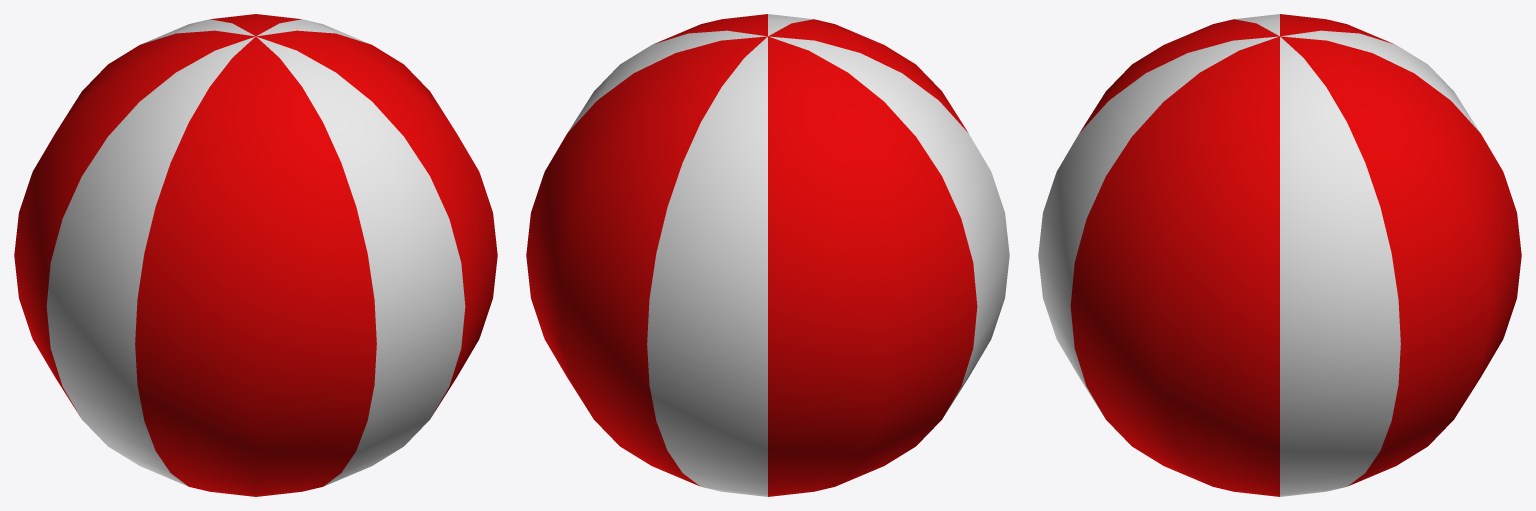
File: Ball_B.fbx
3 views of the same model, side by side, from view 1: azimuth 30°, elevation 25°; view 2: azimuth 150°, elevation 25°; view 3: azimuth 270°, elevation 25° (orthographic).
Visible parts, largest first — view 1: Ball_B; view 2: Ball_B; view 3: Ball_B.
Part boxes in pixels (x1,y1,x2,y2): Ball_B: [14, 14, 497, 496]; Ball_B: [526, 14, 1009, 496]; Ball_B: [1038, 14, 1521, 496].
Bounding box in the file's own units: 29.03 × 29.03 × 29.03.
Materials: 1 (1 with a texture image).
